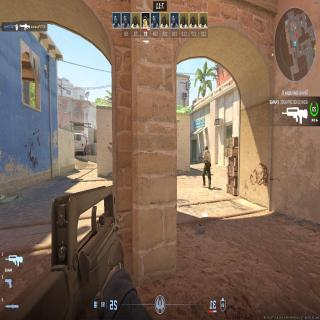T-Body: (200, 144, 212, 186)
T-Head: (204, 144, 210, 152)
